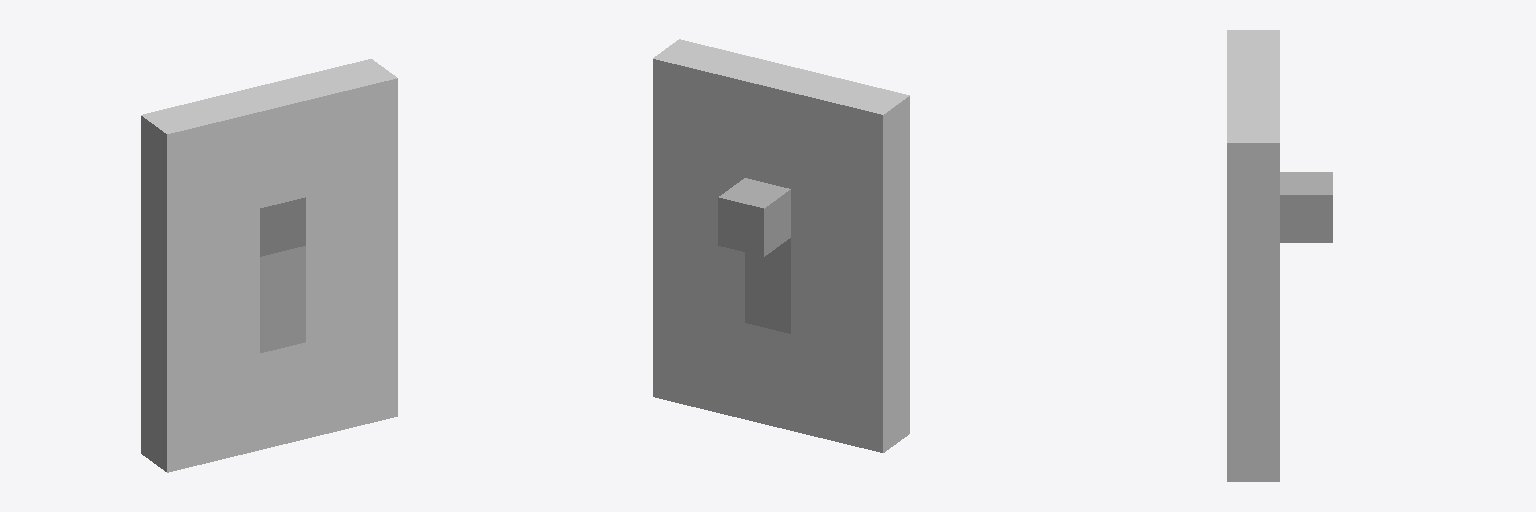
3 renders of one model, left to right at view 1: azimuth 30°, elevation 25°; view 2: azimuth 150°, elevation 25°; view 3: azimuth 270°, elevation 25°, orthographic.
Visible parts, largest first — view 1: object 1; view 2: object 1; view 3: object 1.
Part boxes in pixels (x1,y1,x2,y2): object 1: (141,59,397,472); object 1: (653,39,909,452); object 1: (1227,30,1332,481).
Bounding box in the file's own units: 0.5 × 0.7 × 0.2.
Materials: 1 (1 with a texture image).